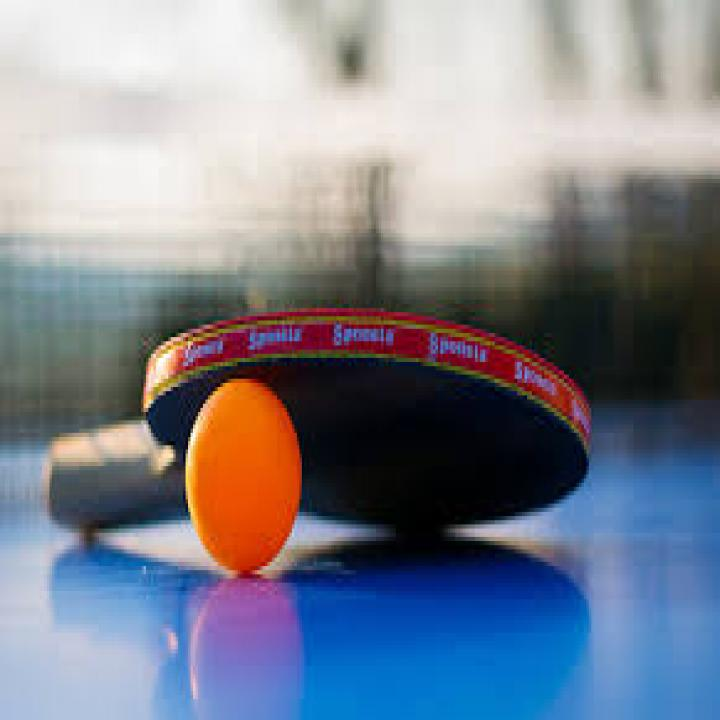orange: (181, 373, 307, 576)
